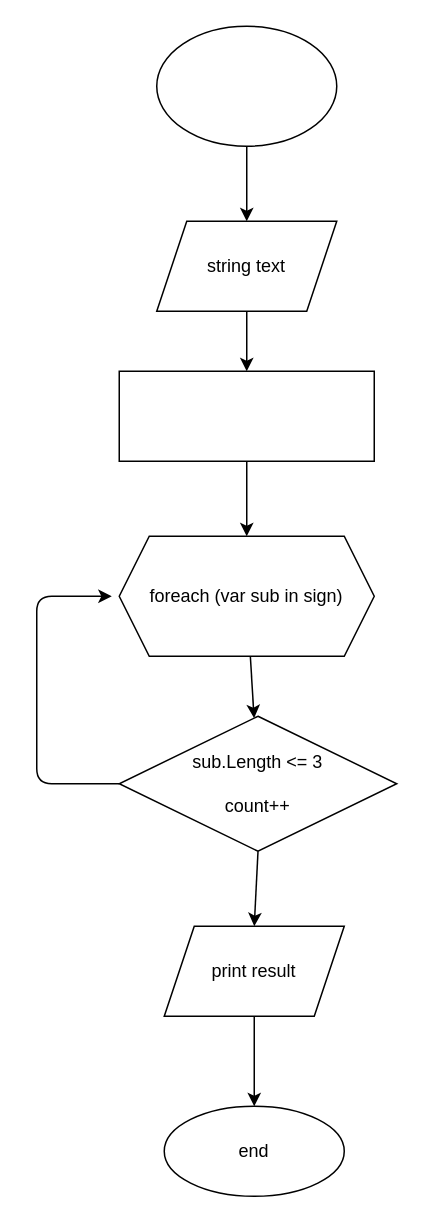
Some shapes in this 423 by 1223 pixel diagram are drawn without their labels. The centre of each missing label's shape, as x and y in pixels:
start: (246,85)
string [ ] sign = text.Split (' ') int count = 0: (246,415)
